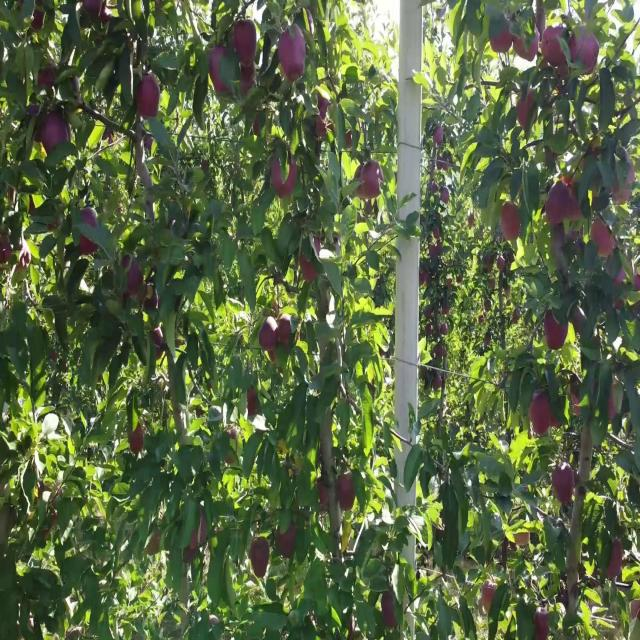apple: (280, 28, 308, 84), (40, 113, 71, 155), (548, 177, 574, 226), (540, 21, 565, 68), (544, 184, 570, 228), (272, 156, 298, 199), (232, 21, 258, 64), (300, 234, 322, 284), (208, 49, 231, 96), (528, 391, 552, 436), (136, 78, 161, 121), (552, 462, 576, 505), (612, 163, 636, 206), (516, 21, 539, 64), (612, 270, 636, 311), (124, 255, 145, 299), (544, 312, 568, 350), (488, 21, 513, 57), (580, 35, 600, 76), (80, 213, 99, 256), (560, 35, 579, 78), (592, 220, 616, 254), (500, 206, 522, 242), (252, 540, 272, 578), (516, 92, 535, 130), (336, 476, 356, 512), (364, 163, 384, 199), (276, 526, 296, 562), (316, 92, 331, 140), (568, 177, 584, 220), (596, 227, 616, 261), (608, 540, 624, 581), (568, 184, 584, 224), (240, 63, 256, 98), (260, 319, 276, 352), (184, 533, 201, 564), (276, 319, 293, 348), (40, 63, 57, 91), (16, 241, 32, 270), (384, 597, 397, 631), (84, 7, 108, 25), (228, 426, 239, 464), (152, 327, 165, 359), (536, 611, 551, 638), (484, 583, 497, 612), (0, 234, 12, 265), (32, 7, 45, 34), (132, 426, 144, 455), (320, 476, 331, 507), (356, 170, 367, 201), (568, 35, 579, 66), (96, 7, 113, 27), (248, 391, 259, 420), (608, 383, 616, 420), (148, 533, 161, 555), (560, 56, 571, 82), (252, 113, 262, 140), (572, 391, 581, 420), (608, 391, 616, 421), (436, 127, 445, 148), (432, 241, 444, 256), (552, 412, 561, 427), (344, 135, 353, 149), (632, 604, 640, 619), (500, 255, 507, 272), (552, 419, 560, 427)
